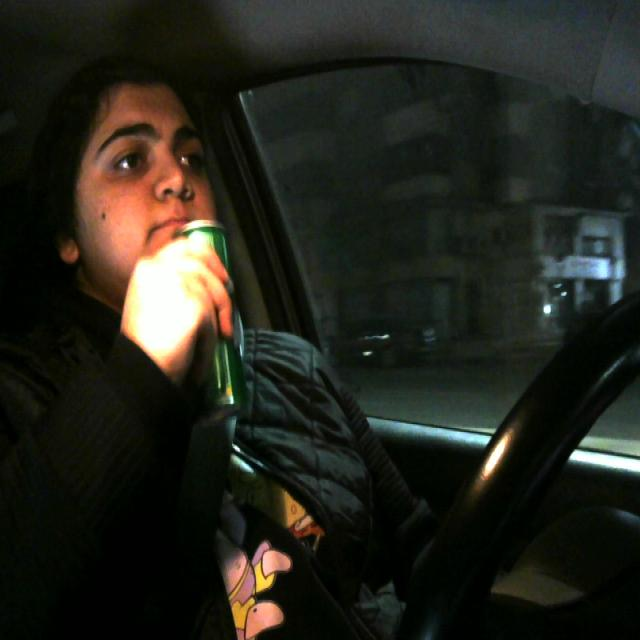drinking: (170, 216, 245, 420)
